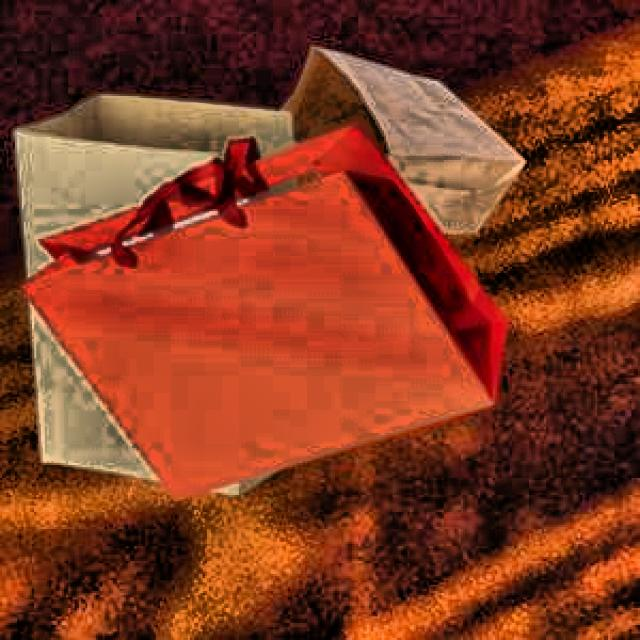Paper-bag: (44, 120, 511, 512), (0, 88, 329, 516), (244, 59, 532, 260)
